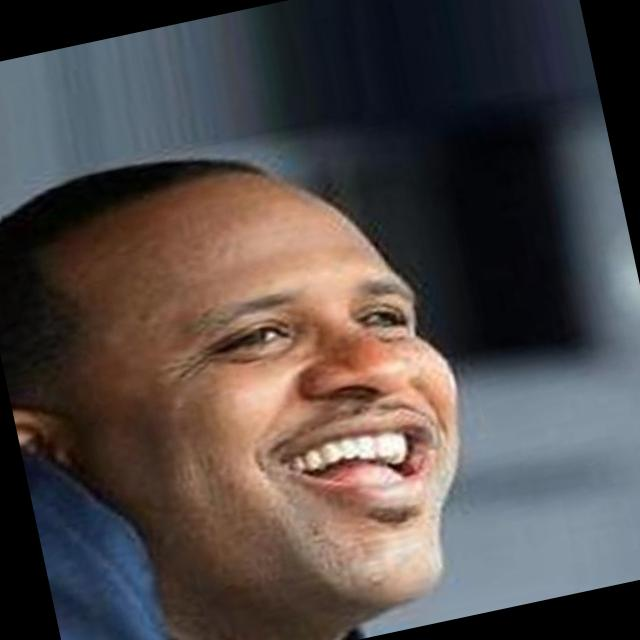bareface: (0, 104, 528, 640)
